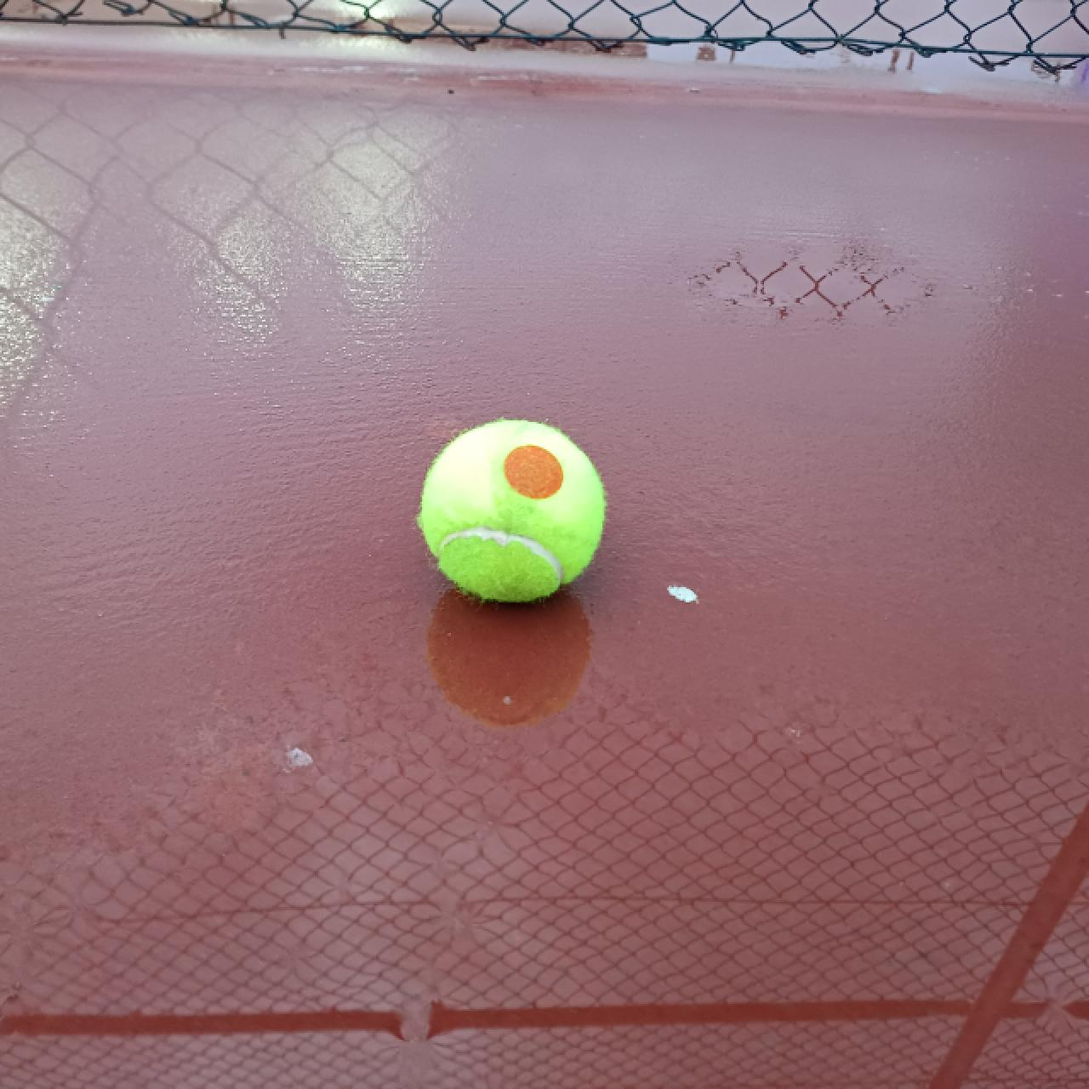tennis-ball: (416, 418, 608, 607)
